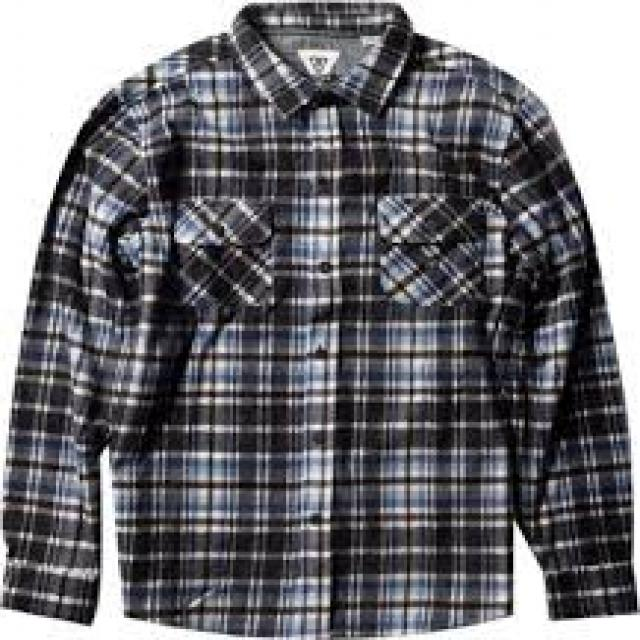plaid: (15, 10, 631, 635)
